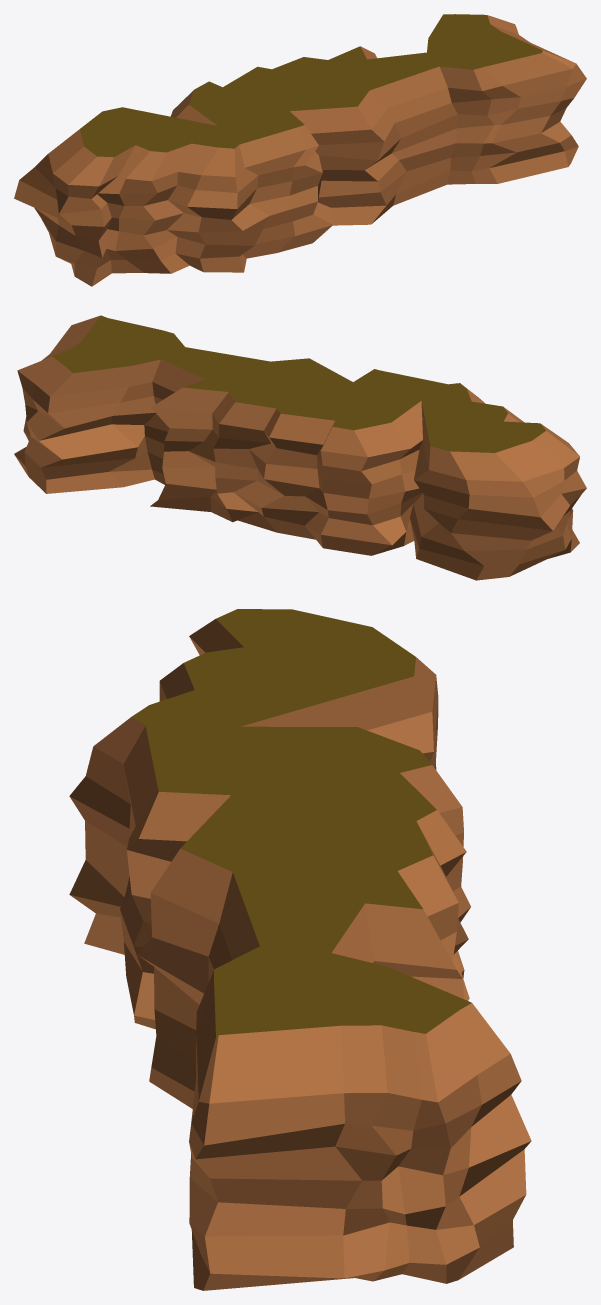
Rendered from highGround.fbx.
The picture shows the model from 3 angles, top to bottom: view 1: azimuth 30°, elevation 25°; view 2: azimuth 150°, elevation 25°; view 3: azimuth 270°, elevation 25°; orthographic projection. The views are drawn at different scales.
Parts seen in each view (by area): view 1: Plane; view 2: Plane; view 3: Plane.
Part boxes in pixels (bbox=[...]): Plane: bbox=[14, 14, 586, 286]; Plane: bbox=[14, 315, 586, 580]; Plane: bbox=[69, 609, 531, 1290].
Size of the model in its own units: 1595 by 341 by 607.
